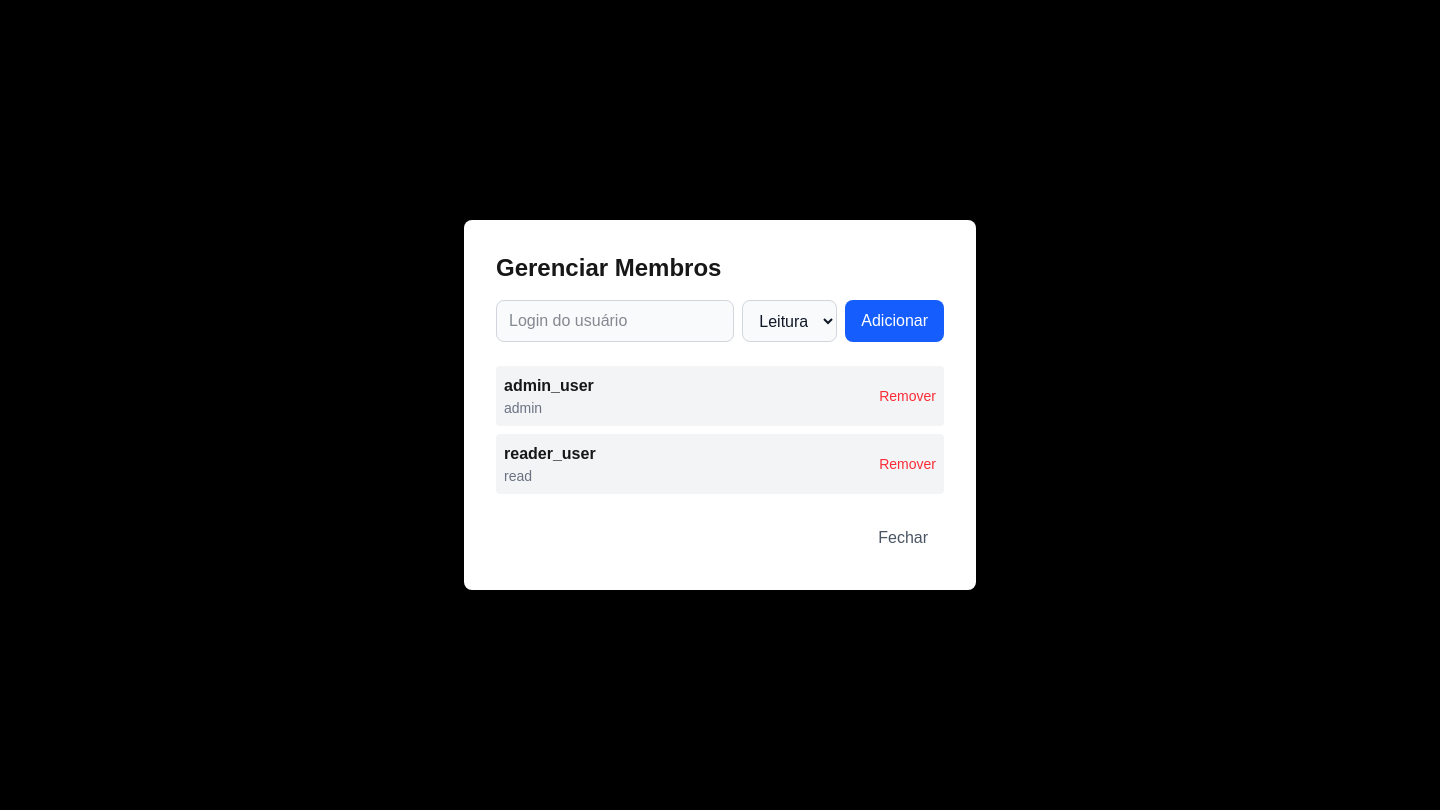
ManageMembersModal › deve permitir adicionar um novo membro
The width and height of the screenshot is (1440, 810).
Expected: the text "admin_user" is shown, [504,374,594,398]
Type "new_writer" into the field with placeholder "Login do usuário" at (615, 321), box [496,300,734,342]
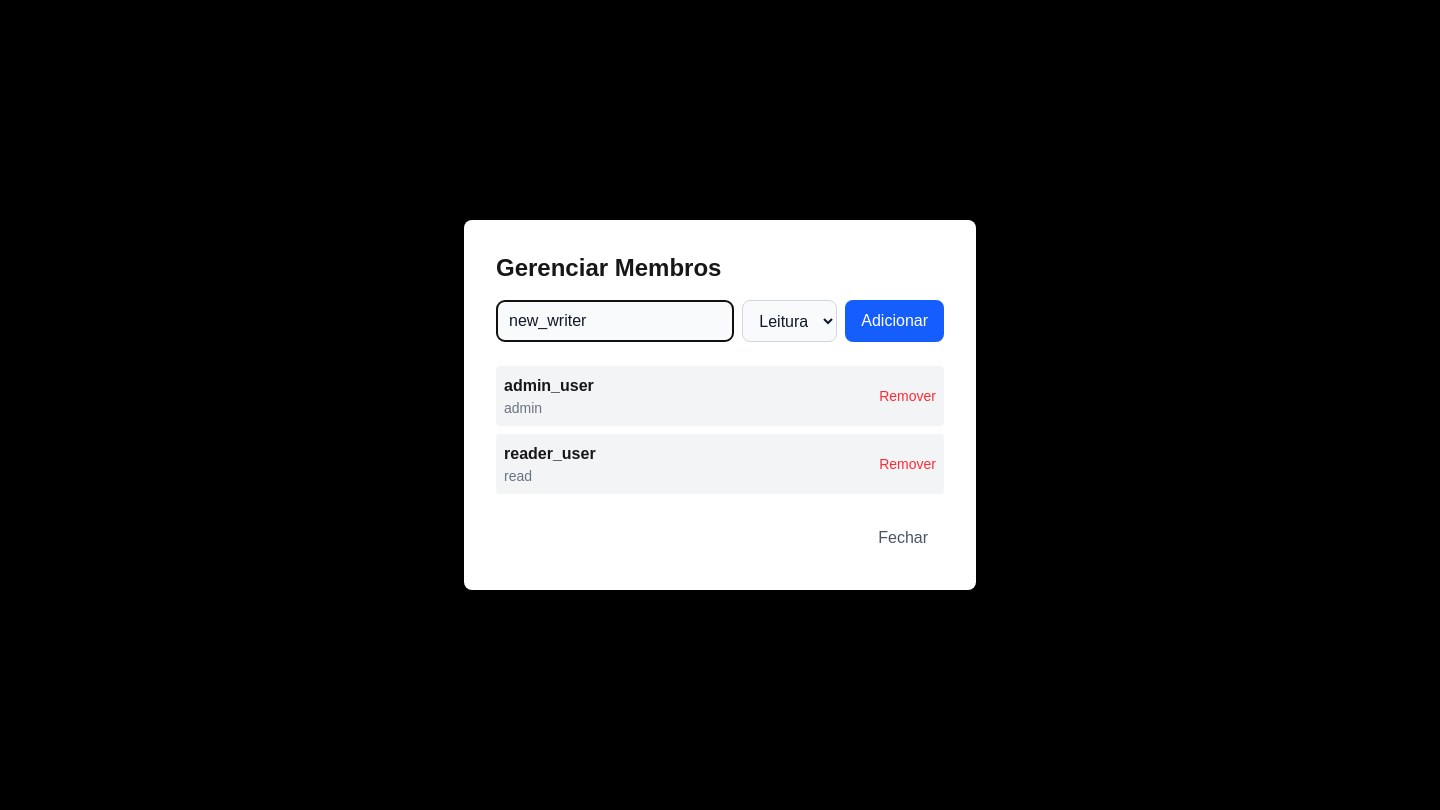
Select "Escrita" in the dropdown at (790, 321), box [742,300,837,342]
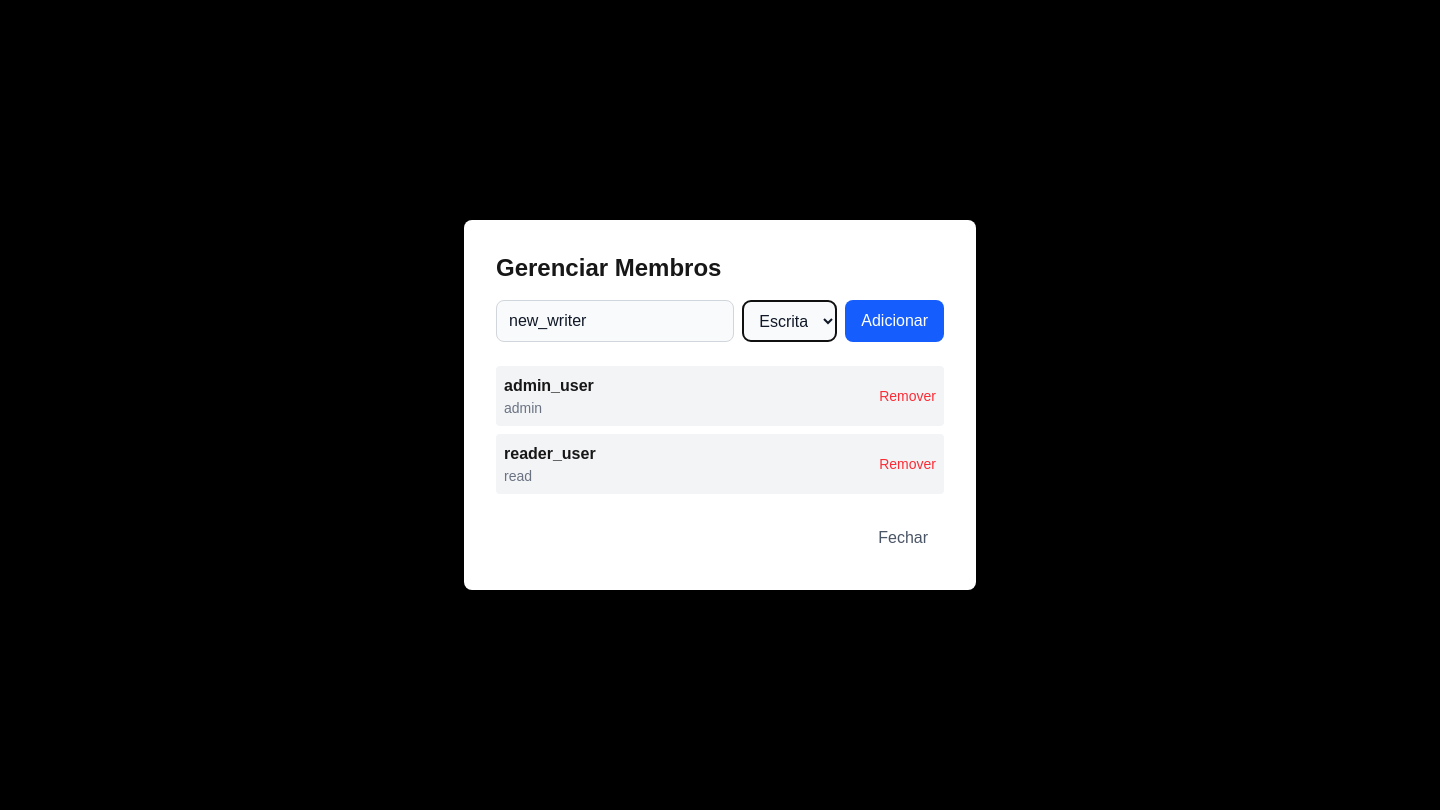
Click the button "Adicionar" at (895, 321), box [845,300,944,342]
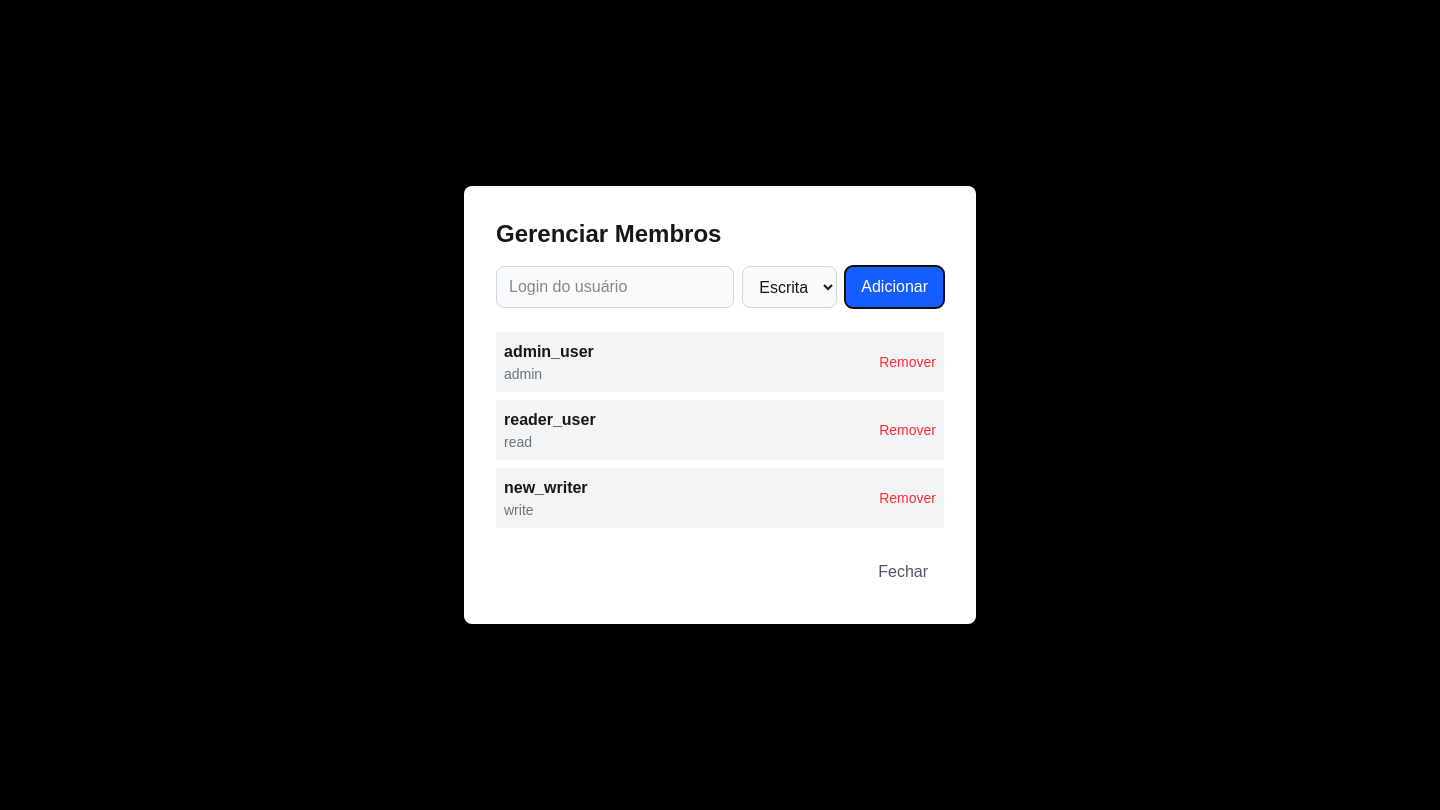
Expected: the text "new_writer" is shown, [504,476,588,500]
